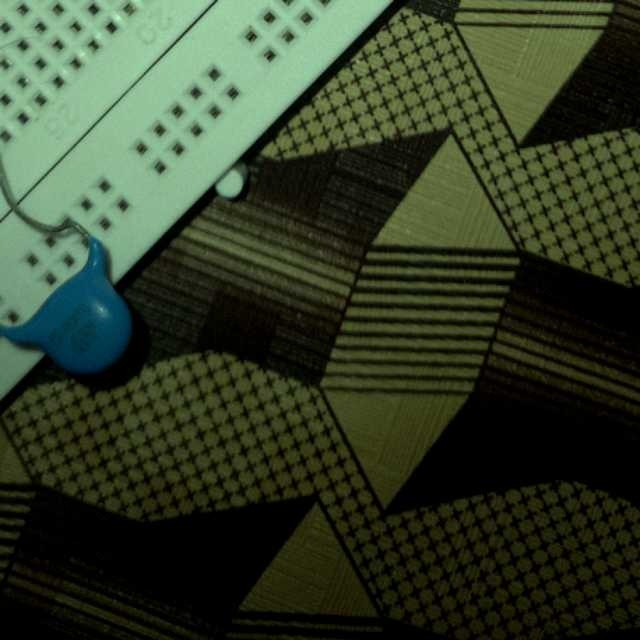capacitor: (32, 268, 135, 388)
